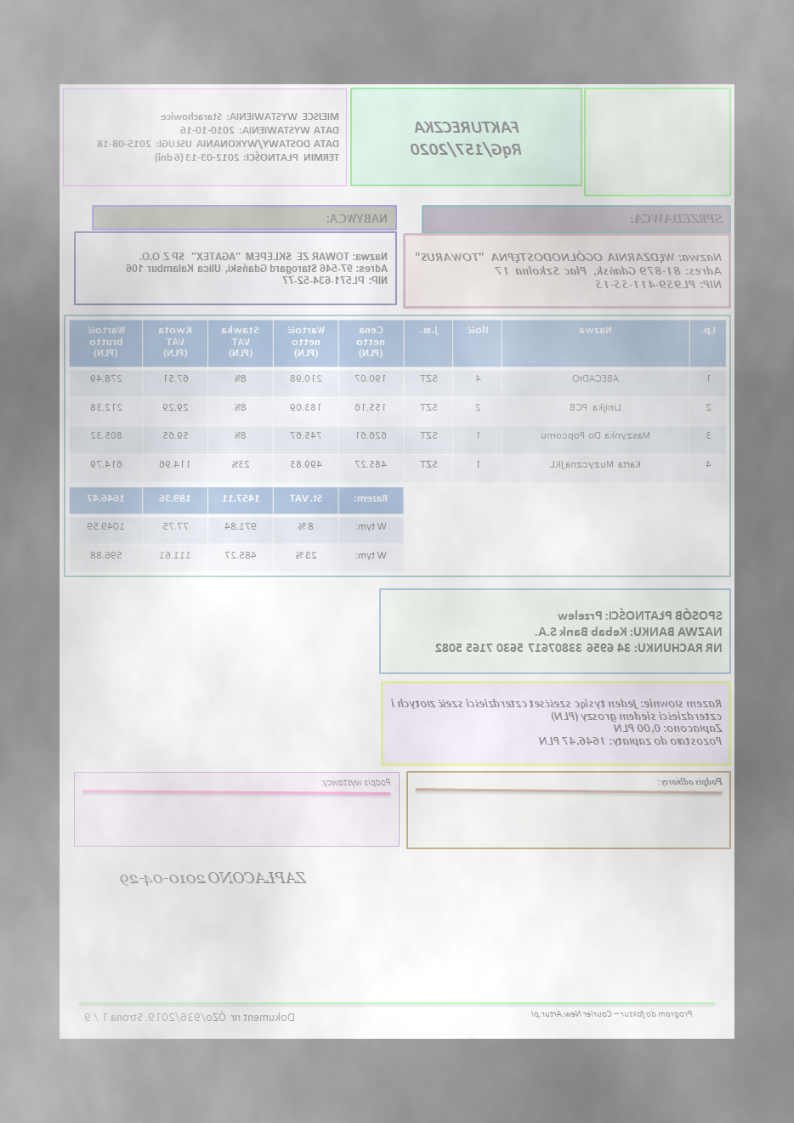Table: (69, 318, 728, 483), (68, 486, 406, 572)
TextBox: (388, 696, 725, 748), (433, 607, 726, 656), (95, 111, 342, 163), (414, 250, 725, 291), (125, 250, 390, 286), (409, 118, 524, 162), (118, 869, 309, 889), (83, 1011, 297, 1024), (530, 1007, 696, 1021), (629, 212, 726, 225), (325, 211, 390, 227), (320, 776, 393, 789), (655, 774, 725, 787)
